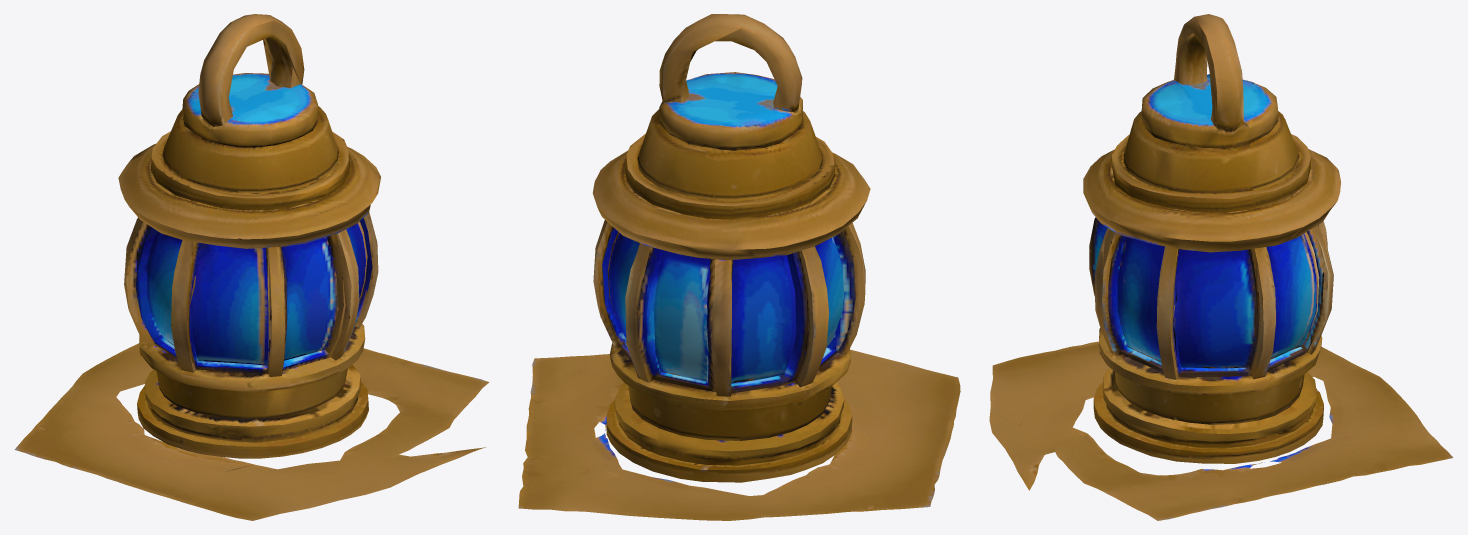
Rendered from first-prop-lantern.glb.
3 views of the same model, side by side, from view 1: azimuth 30°, elevation 25°; view 2: azimuth 150°, elevation 25°; view 3: azimuth 270°, elevation 25° (orthographic). The views are drawn at different scales.
Parts seen in each view (by area): view 1: low; view 2: low; view 3: low.
Part boxes in pixels (x1,y1,x2,y2): low: [14, 14, 489, 520]; low: [518, 14, 960, 520]; low: [989, 14, 1452, 520].
Size of the model in its own units: 0.959 by 0.8584 by 0.9053.
1 material, 1 textured.
